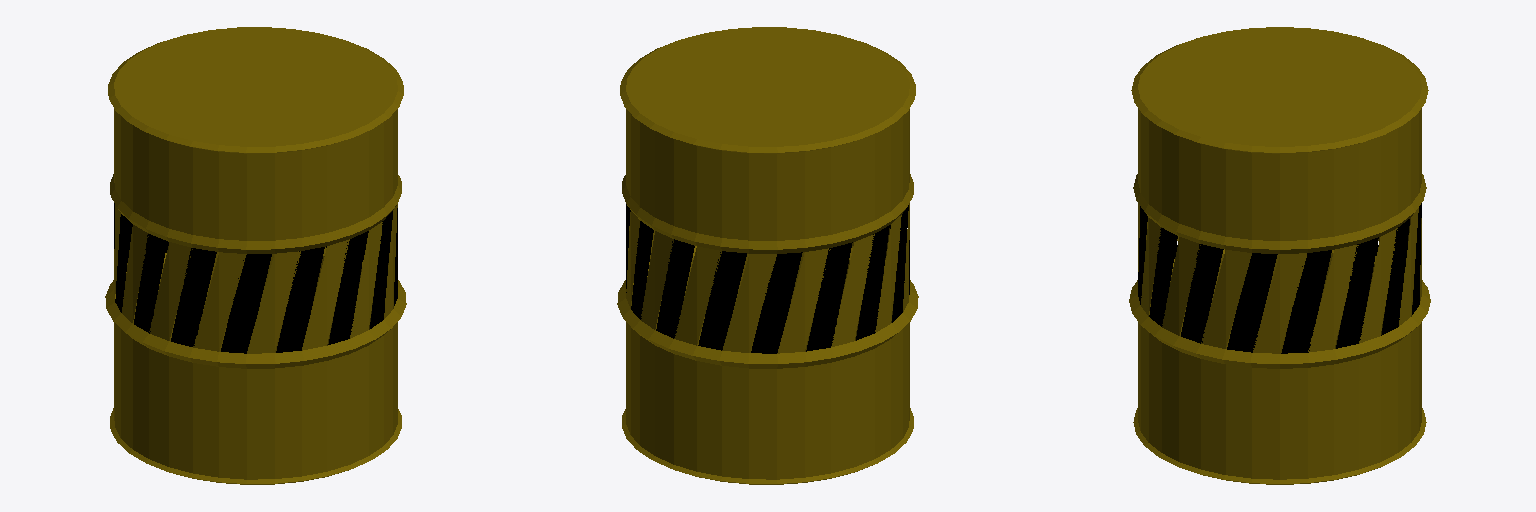
Rendered from Toxic_Barrel.obj.
3 views of the same model, side by side, from view 1: azimuth 30°, elevation 25°; view 2: azimuth 150°, elevation 25°; view 3: azimuth 270°, elevation 25° (orthographic).
Visible parts, largest first — view 1: Cylinder, Cylinder.001; view 2: Cylinder, Cylinder.001; view 3: Cylinder, Cylinder.001.
Boxes of the visible parts, x1=… form: Cylinder: x1=105, y1=27, x2=406, y2=484; Cylinder.001: x1=114, y1=203, x2=397, y2=353; Cylinder: x1=617, y1=27, x2=918, y2=484; Cylinder.001: x1=626, y1=204, x2=909, y2=353; Cylinder: x1=1129, y1=27, x2=1430, y2=484; Cylinder.001: x1=1138, y1=203, x2=1421, y2=353.
Bounding box in the file's own units: 2.12 × 2.62 × 2.12.